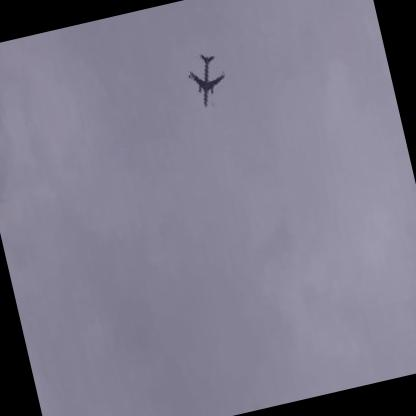plane: (181, 44, 236, 113)
